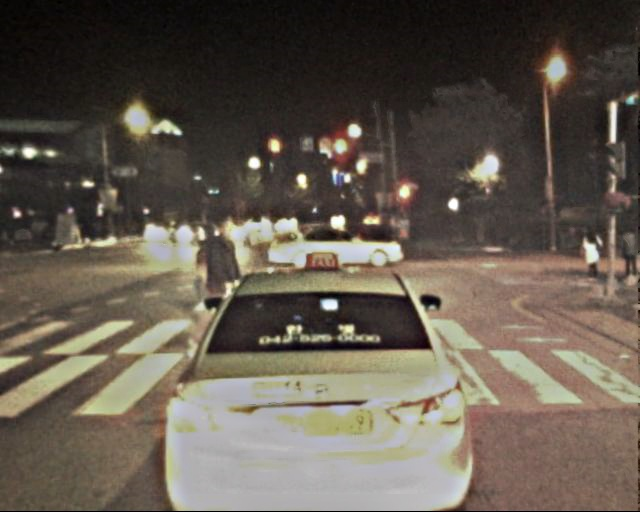person: (190, 213, 247, 351), (186, 225, 224, 318), (578, 227, 605, 293), (614, 227, 639, 289)
